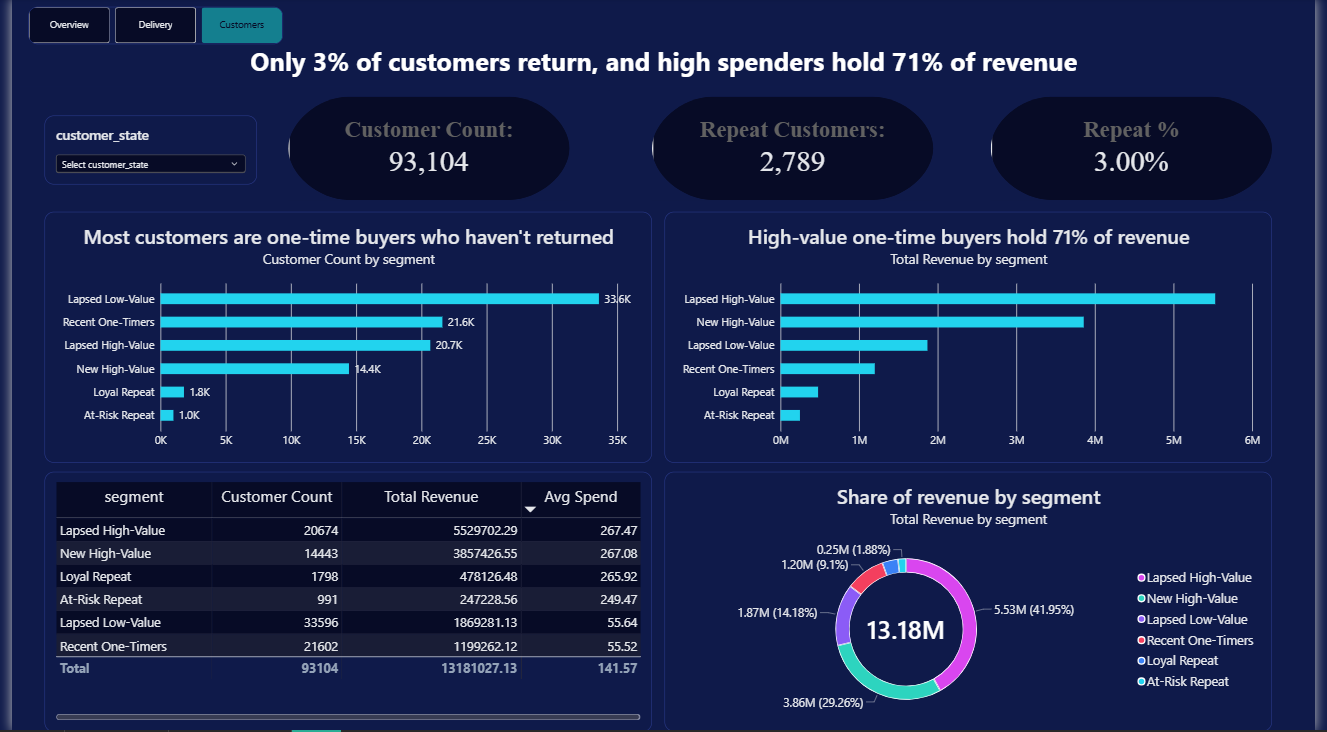

The dashboard page shown, as its layout file describes it:
{"tool":"powerbi","page":{"name":"Customers","canvas":[1920,1080],"ordinal":2},"visuals":[{"type":"cardVisual","fields":{"Data":["Orders.Customer Count Text"]},"box":[406.8,145.4,414.1,152.8],"z":0},{"type":"cardVisual","fields":{"Data":["customers.Repeat Customers Text"]},"box":[942.3,145.4,414.1,152.8],"z":1000},{"type":"cardVisual","fields":{"Data":["customers.Repeat %"]},"box":[1441.1,145.4,414.1,152.8],"z":2000},{"type":"textbox","box":[0,68.1,1919.6,62.6],"z":3000},{"type":"clusteredBarChart","title":"Most customers are one-time buyers who haven''t returned","fields":{"Category":["rfm.segment"],"Y":["Orders.Customer Count"]},"box":[47.9,314.7,894.5,369.9],"z":4000},{"type":"clusteredBarChart","title":"High-value one-time buyers hold 71% of revenue","fields":{"Category":["rfm.segment"],"Y":["Orders.Total Revenue"]},"box":[960.7,314.7,894.5,369.9],"z":5000},{"type":"tableEx","title":"Segment summary","fields":{"Values":["rfm.segment","Orders.Customer Count","Orders.Total Revenue","Orders.Avg Spend"]},"box":[47.9,697.5,894.5,382.8],"z":6000},{"type":"donutChart","title":"Share of revenue by segment","fields":{"Category":["rfm.segment"],"Y":["Orders.Total Revenue"]},"box":[960.7,697.5,894,382],"z":7000},{"type":"listSlicer","fields":{"Values":["Orders.customer_state"]},"box":[47.9,173,312.9,101.2],"z":8000},{"type":"pageNavigator","box":[23.9,12.9,375.5,55.2],"z":9000}]}

Visuals, with their boxes in screenshot pixels (x1, y1, x2, y2), scaled from the page's 1920x1080 canvas onto the 1327x732 screenshot:
cardVisual - Orders.Customer Count Text: (left=281, top=99, right=567, bottom=202)
cardVisual - customers.Repeat Customers Text: (left=651, top=99, right=937, bottom=202)
cardVisual - customers.Repeat %: (left=996, top=99, right=1282, bottom=202)
textbox: (left=0, top=46, right=1326, bottom=89)
"Most customers are one-time buyers who haven''t returned" clusteredBarChart: (left=33, top=213, right=651, bottom=464)
"High-value one-time buyers hold 71% of revenue" clusteredBarChart: (left=664, top=213, right=1282, bottom=464)
"Segment summary" tableEx: (left=33, top=473, right=651, bottom=731)
"Share of revenue by segment" donutChart: (left=664, top=473, right=1282, bottom=731)
listSlicer - Orders.customer_state: (left=33, top=117, right=249, bottom=186)
pageNavigator: (left=17, top=9, right=276, bottom=46)
